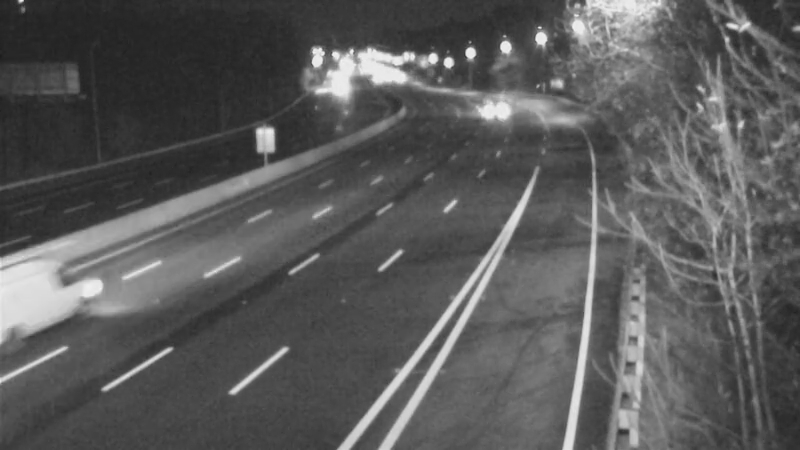vehicle: (1, 246, 98, 356), (464, 84, 514, 134)
